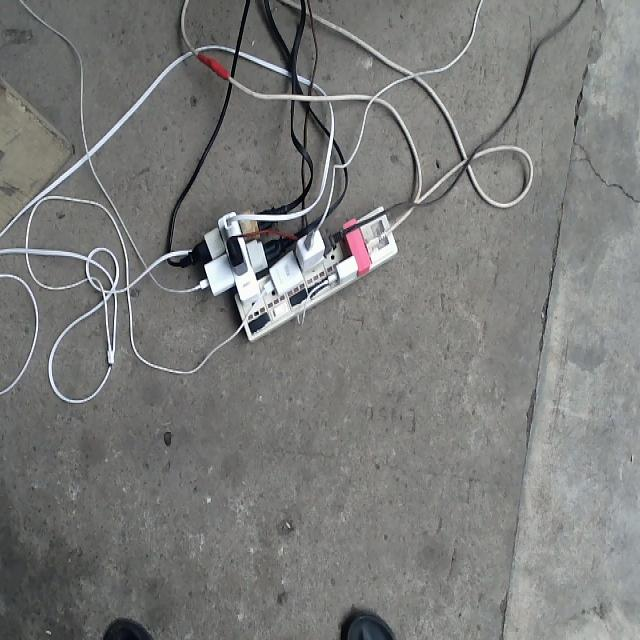-: (180, 202, 396, 338)
